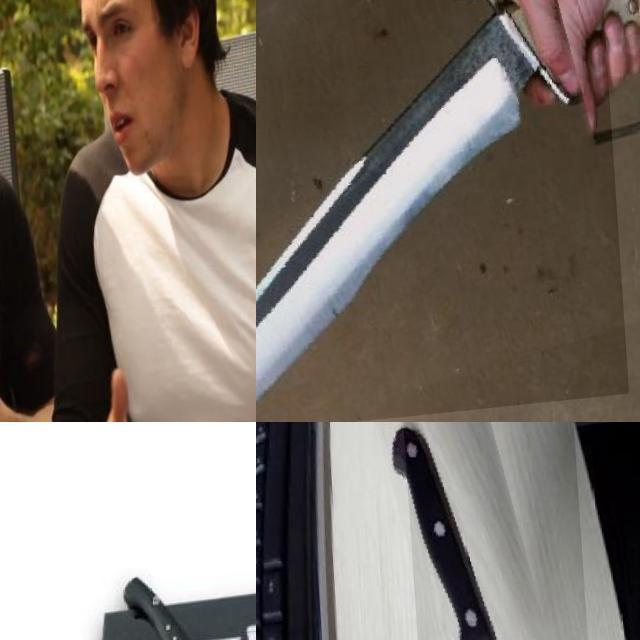-: (256, 0, 621, 422), (401, 422, 603, 640), (0, 122, 56, 330)
